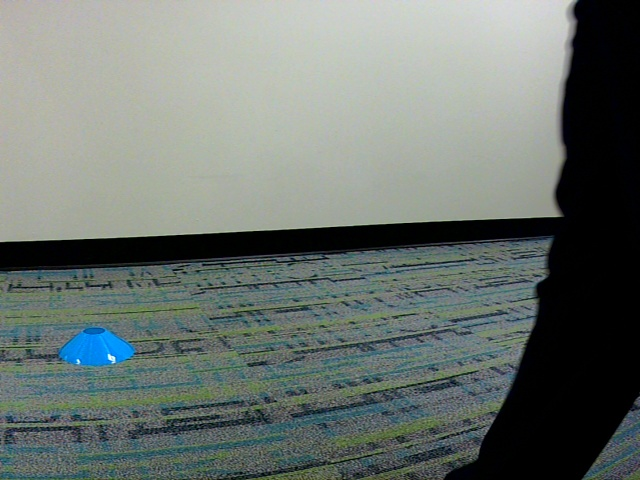cone: (57, 326, 137, 368)
